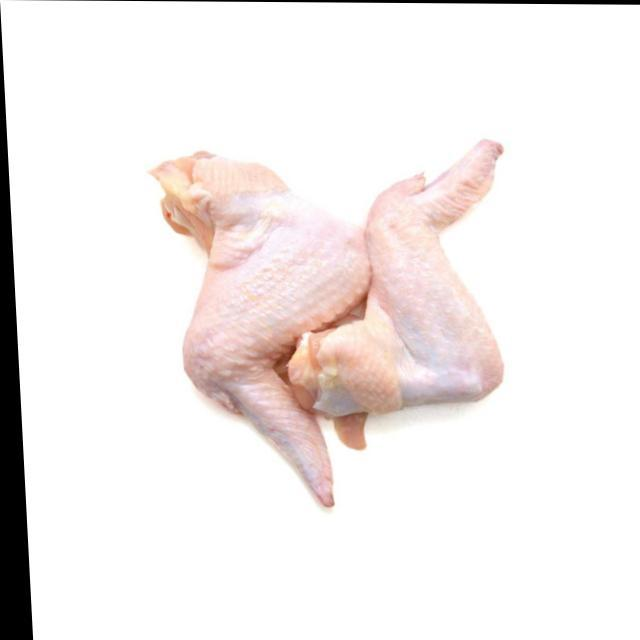wing: (139, 138, 377, 484), (278, 150, 546, 438)
